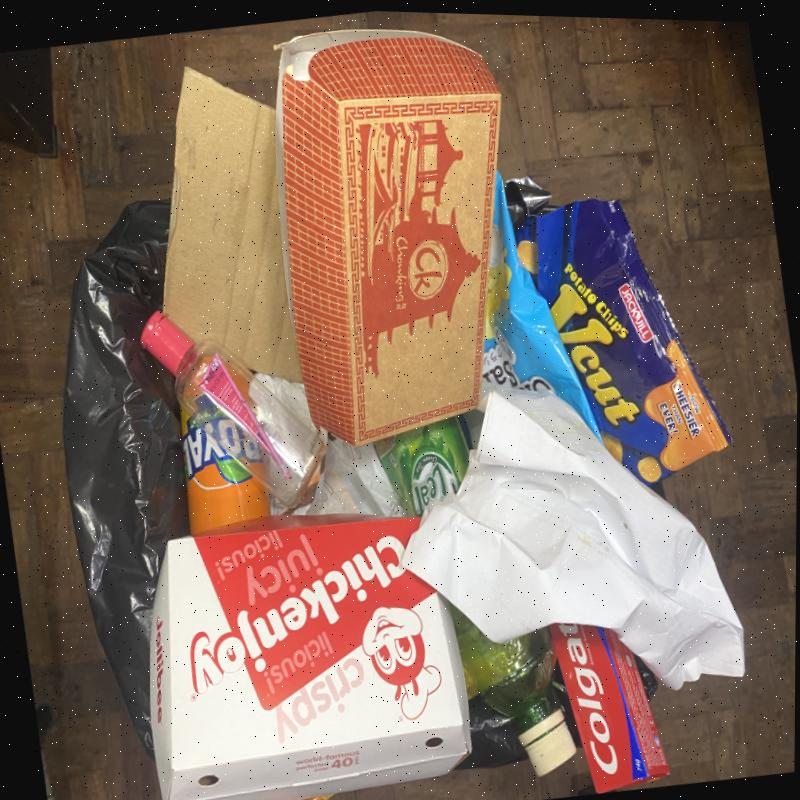cardboard: (272, 29, 501, 447), (149, 514, 470, 800), (162, 66, 301, 385), (546, 623, 668, 794)
food wrapper: (504, 174, 733, 487), (480, 169, 603, 443)
glass bottle: (140, 309, 325, 509)
paper: (398, 381, 745, 690)
plastic bottle: (371, 417, 577, 776)
